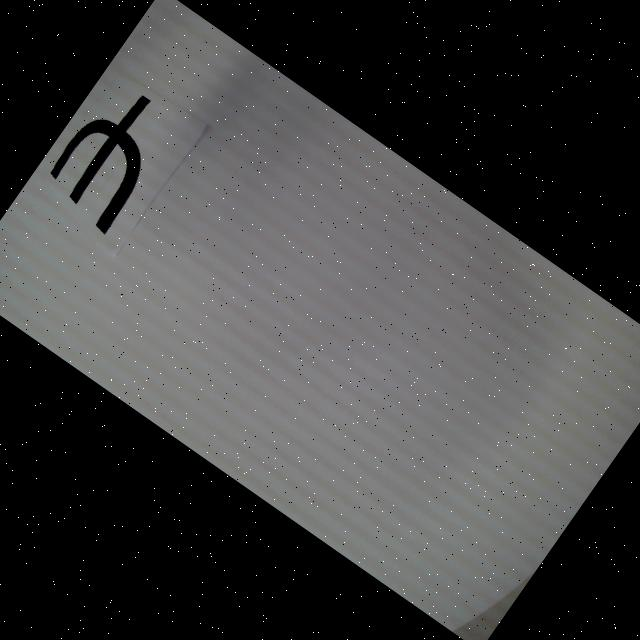PSI: (36, 76, 184, 236)
